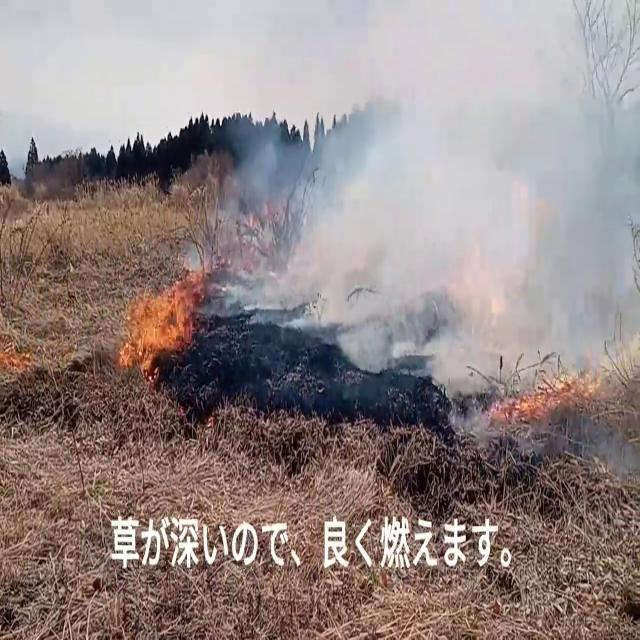Fire: (116, 274, 198, 372)
Smoke: (209, 2, 640, 424)
